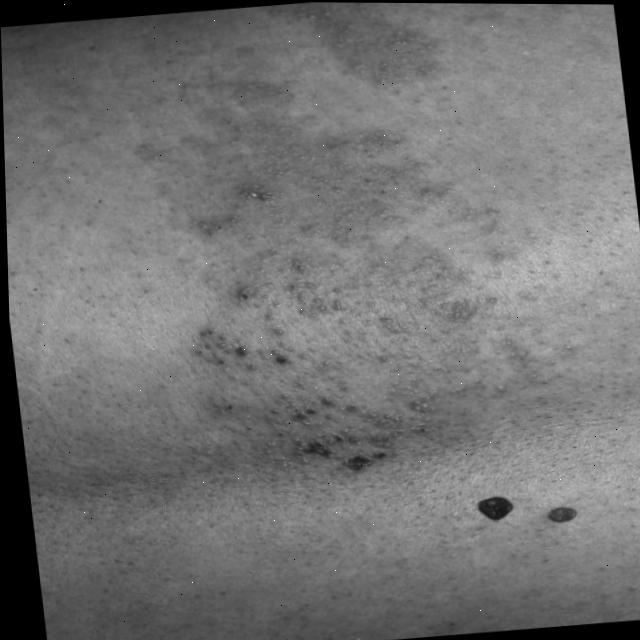Shingles: (143, 56, 552, 486), (248, 2, 446, 102)
